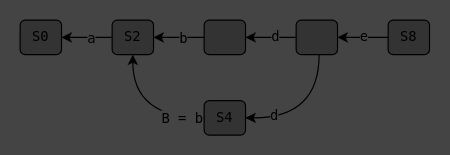
Image size: 450x155. Some labels were removed from this diagram. The centre of each missing label's shape, as x and y in pixels:
"S3" goes at (x=224, y=37).
"S6" goes at (x=316, y=37).
